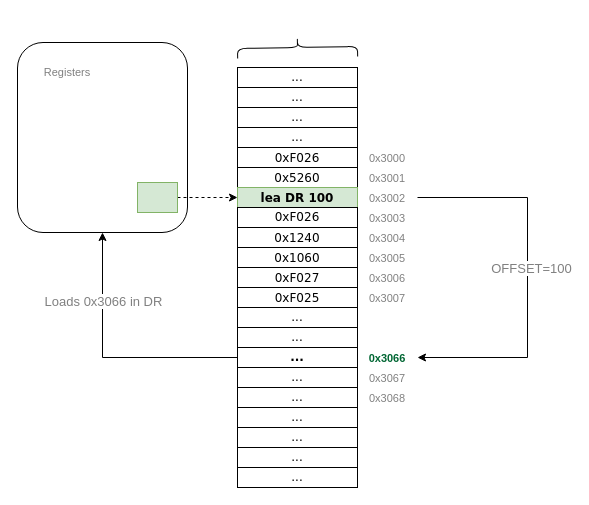
This 589x505 diagram has some shape labels left out. The shapes that lost their labels are listed below. From the top down, each one's centre as x and y in pixels, then its label:
At point (297, 46): "Main Memory".
At point (157, 197): "RPC".
